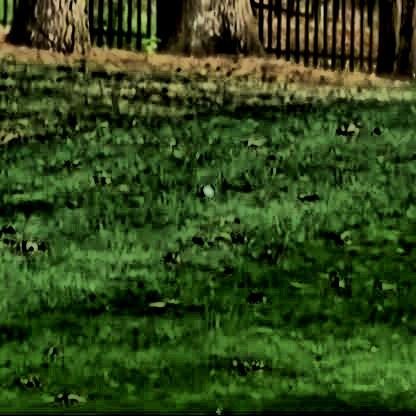golfball: (201, 183, 212, 194)
